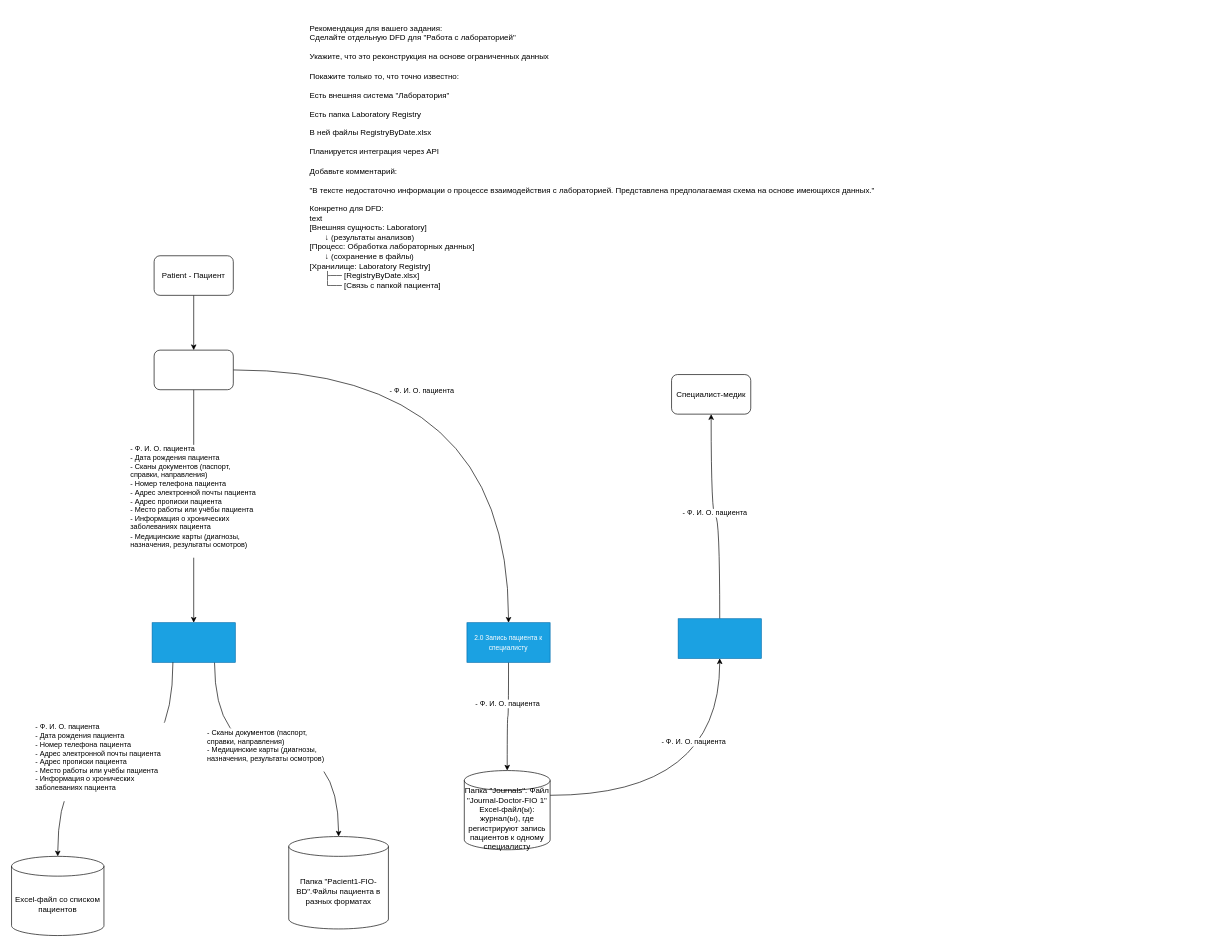
Image size: 1231x947. Some labels were removed from this diagram. The box of each missing label's shape, as (x1, y1, x2, y2) in pixels:
1.0 Регистрация пациента в системе: (151, 622, 235, 662)
3.0 Просмотр журнала записи пациентов: (677, 618, 761, 658)
Administrator - Сотрудник ресепшена: (153, 349, 233, 390)
